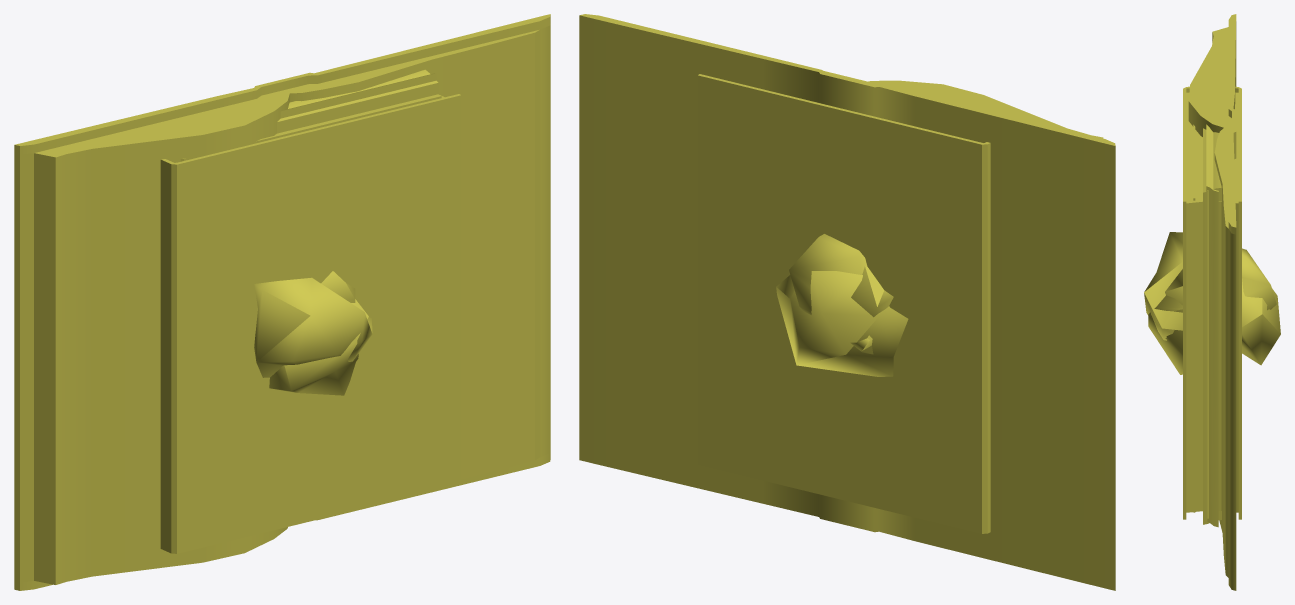
File: Papers_Set_Model.fbx
The picture shows the model from 3 angles, left to right: view 1: azimuth 30°, elevation 25°; view 2: azimuth 150°, elevation 25°; view 3: azimuth 270°, elevation 25°; orthographic projection. The views are drawn at different scales.
Visible parts, largest first — view 1: BookOpened, Book1, TrashPaperDetail1, PaperTower3, TrashPaperDetail3, PaperTower1, Book2; view 2: BookOpened, Book1, TrashPaperDetail1, TrashPaperDetail3, TrashPaperDetail2; view 3: Book1, BookOpened, TrashPaperDetail1, PaperTower1, PaperTower3, TrashPaperDetail3, PaperTower2, TrashPaperDetail2, Book2.
Boxes of the visible parts, <box> form: BookOpened: <box>14,14,550,590</box>; Book1: <box>160,94,461,553</box>; TrashPaperDetail1: <box>254,277,372,377</box>; PaperTower3: <box>277,69,438,133</box>; TrashPaperDetail3: <box>269,299,368,395</box>; PaperTower1: <box>280,73,436,118</box>; Book2: <box>180,95,441,161</box>; BookOpened: <box>579,14,1115,590</box>; Book1: <box>697,74,990,533</box>; TrashPaperDetail1: <box>776,271,908,376</box>; TrashPaperDetail3: <box>789,234,873,354</box>; TrashPaperDetail2: <box>851,266,893,317</box>; Book1: <box>1183,86,1241,519</box>; BookOpened: <box>1188,14,1236,590</box>; TrashPaperDetail1: <box>1144,232,1280,365</box>; PaperTower1: <box>1206,124,1218,527</box>; PaperTower3: <box>1203,128,1221,524</box>; TrashPaperDetail3: <box>1148,248,1276,374</box>; PaperTower2: <box>1207,190,1208,518</box>; TrashPaperDetail2: <box>1165,269,1182,340</box>; Book2: <box>1193,124,1195,512</box>.
Size of the model in its own units: 41.98 by 33.28 by 11.37.
